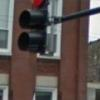traffic lights: (18, 0, 50, 56)
